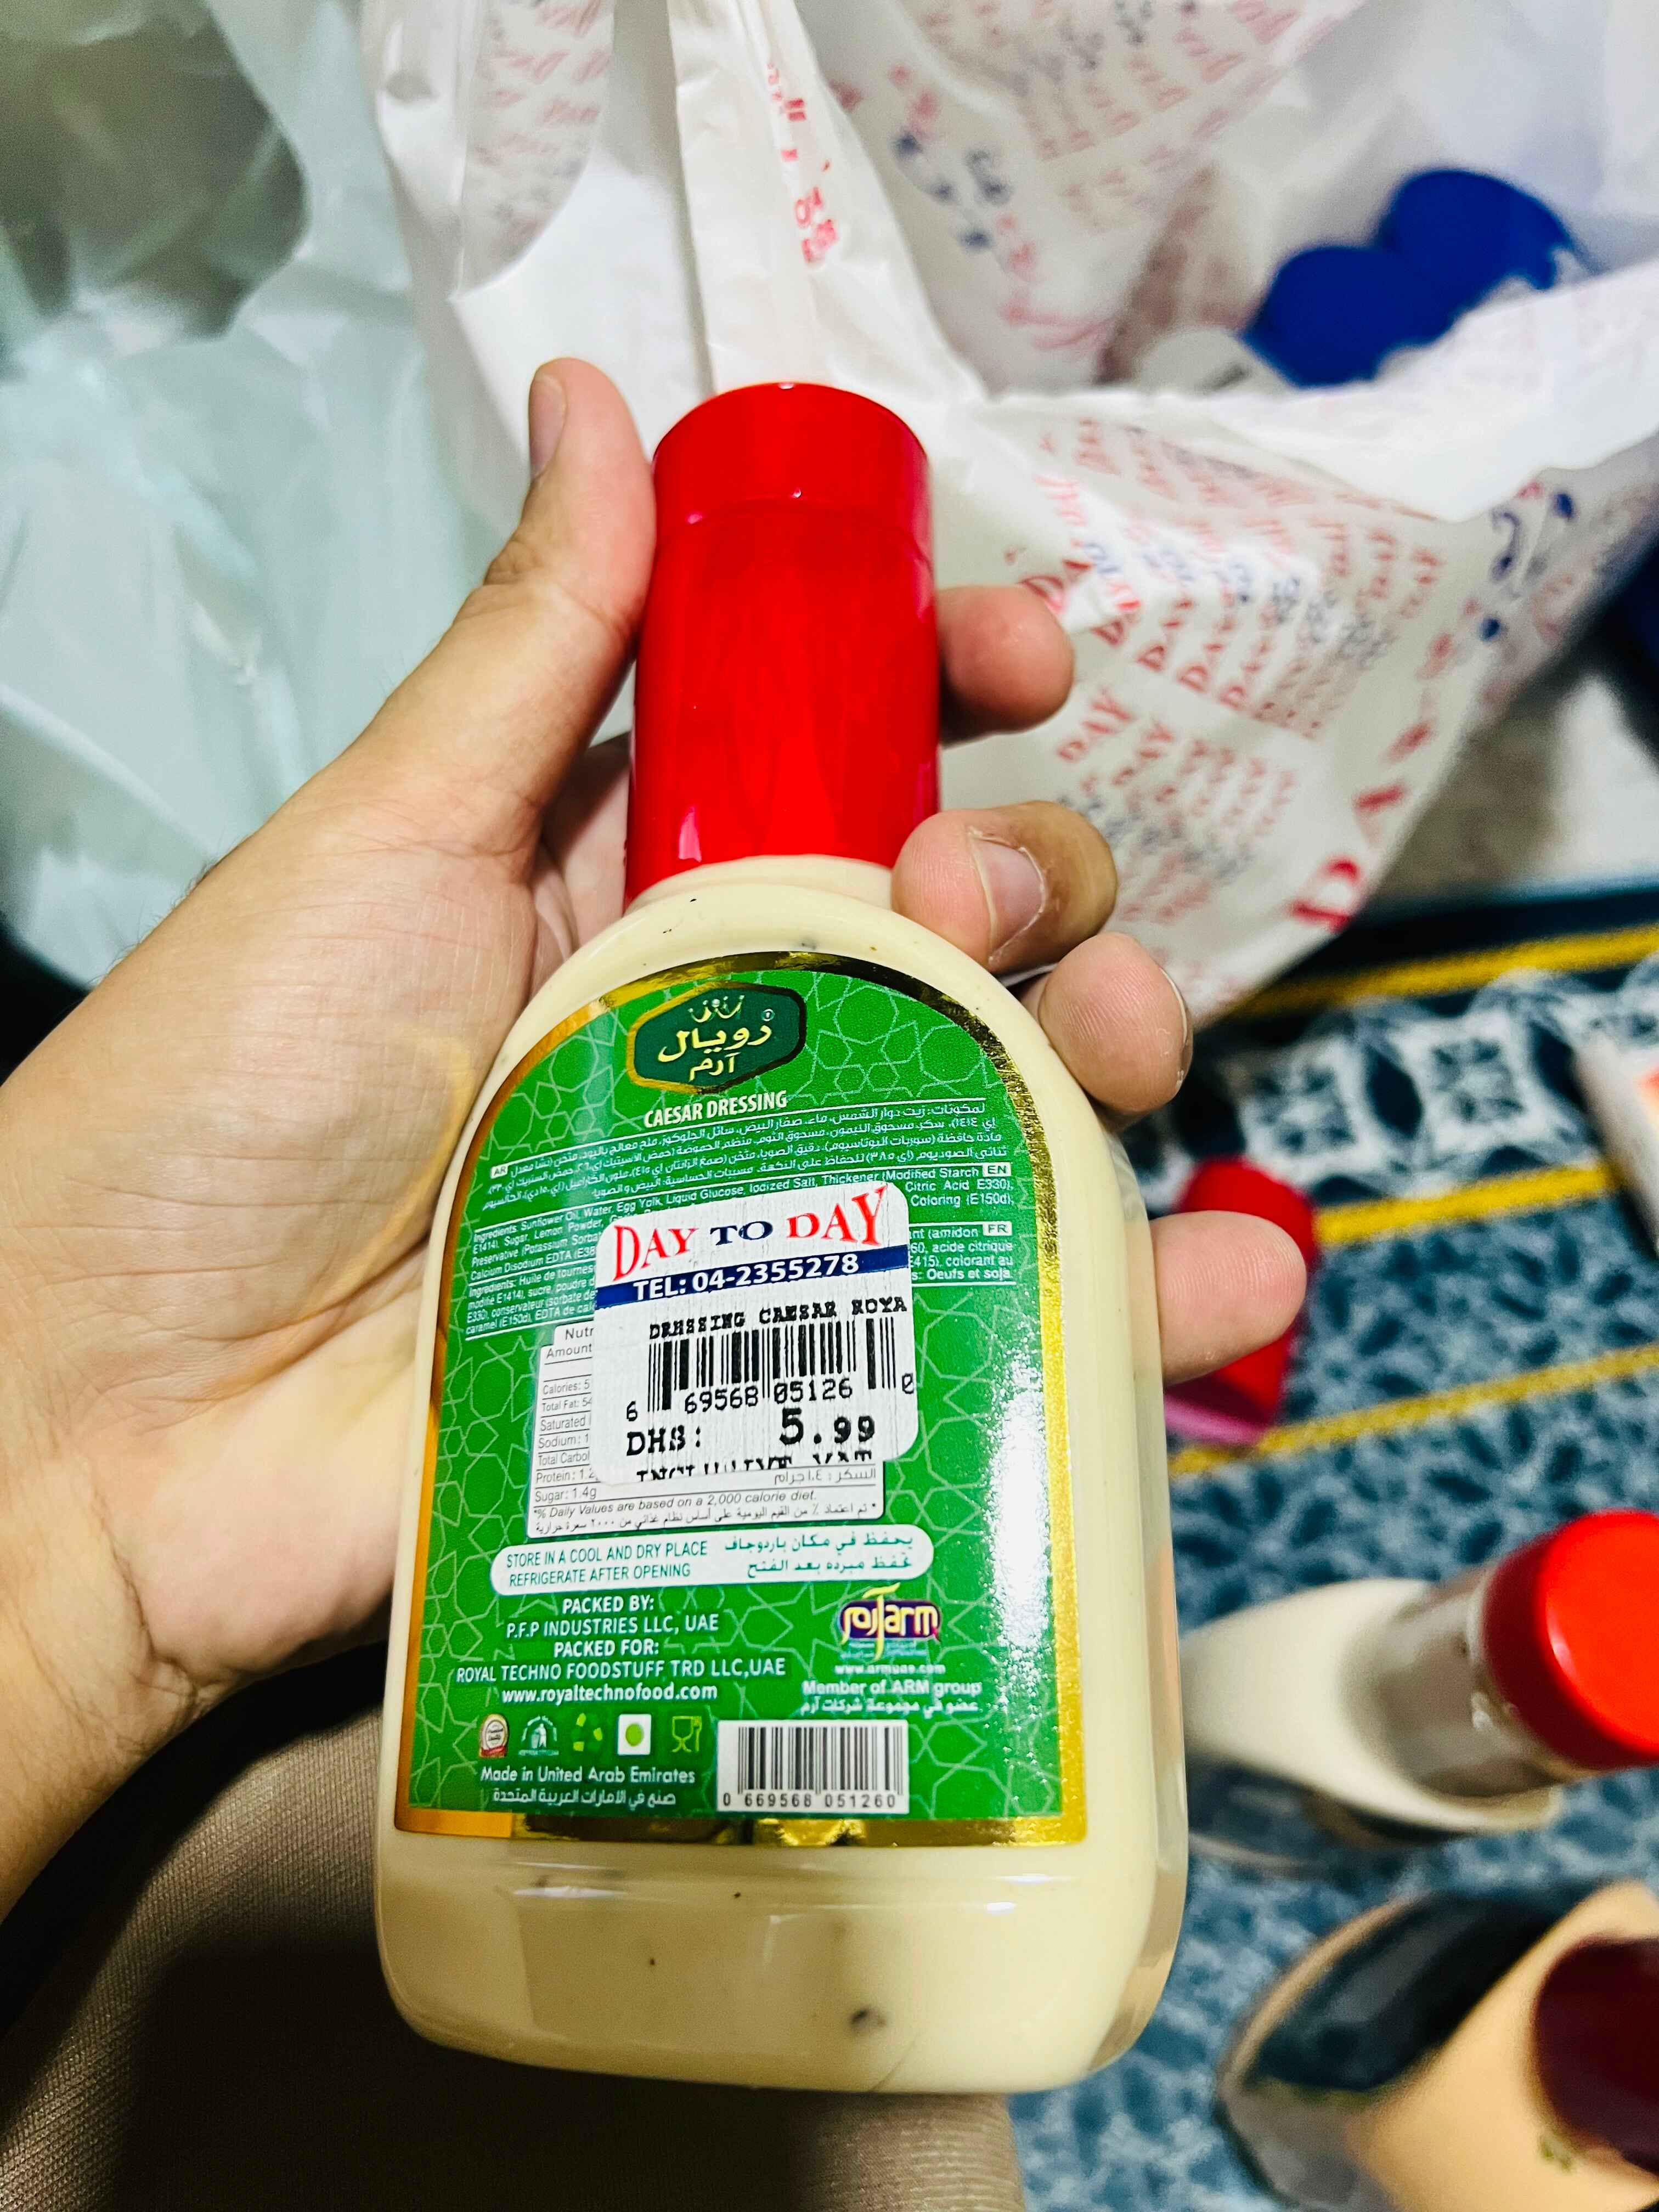PriceTagBig: (591, 1174, 924, 1482)
